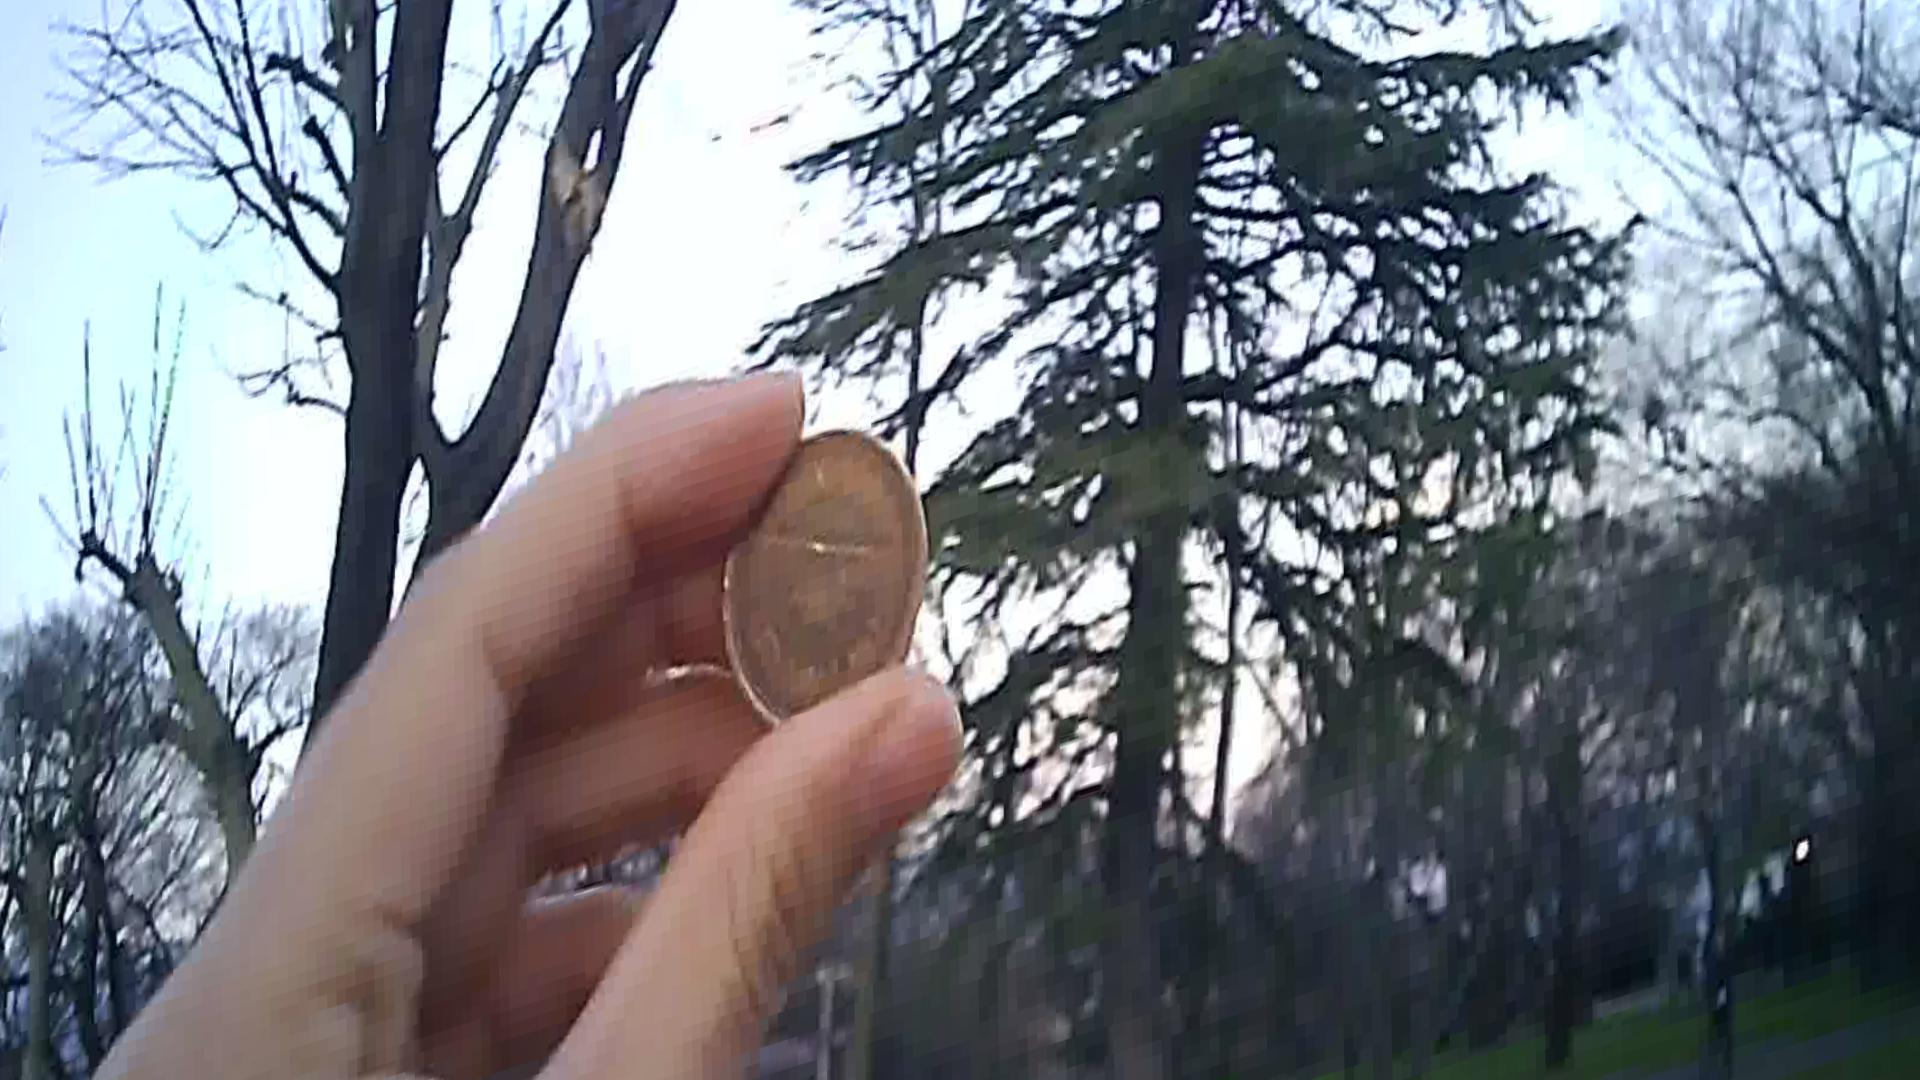10 Yen: (720, 433, 934, 725)
